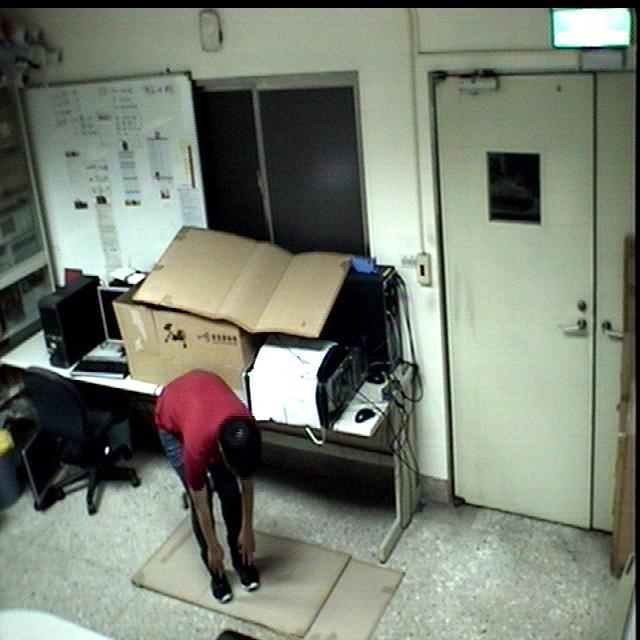bend: (152, 364, 269, 599)
